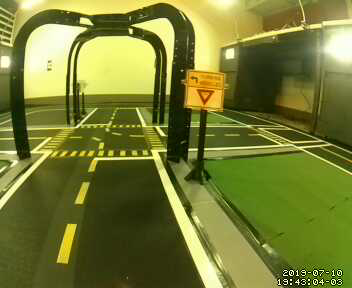Turn Yield: (186, 69, 224, 112)
